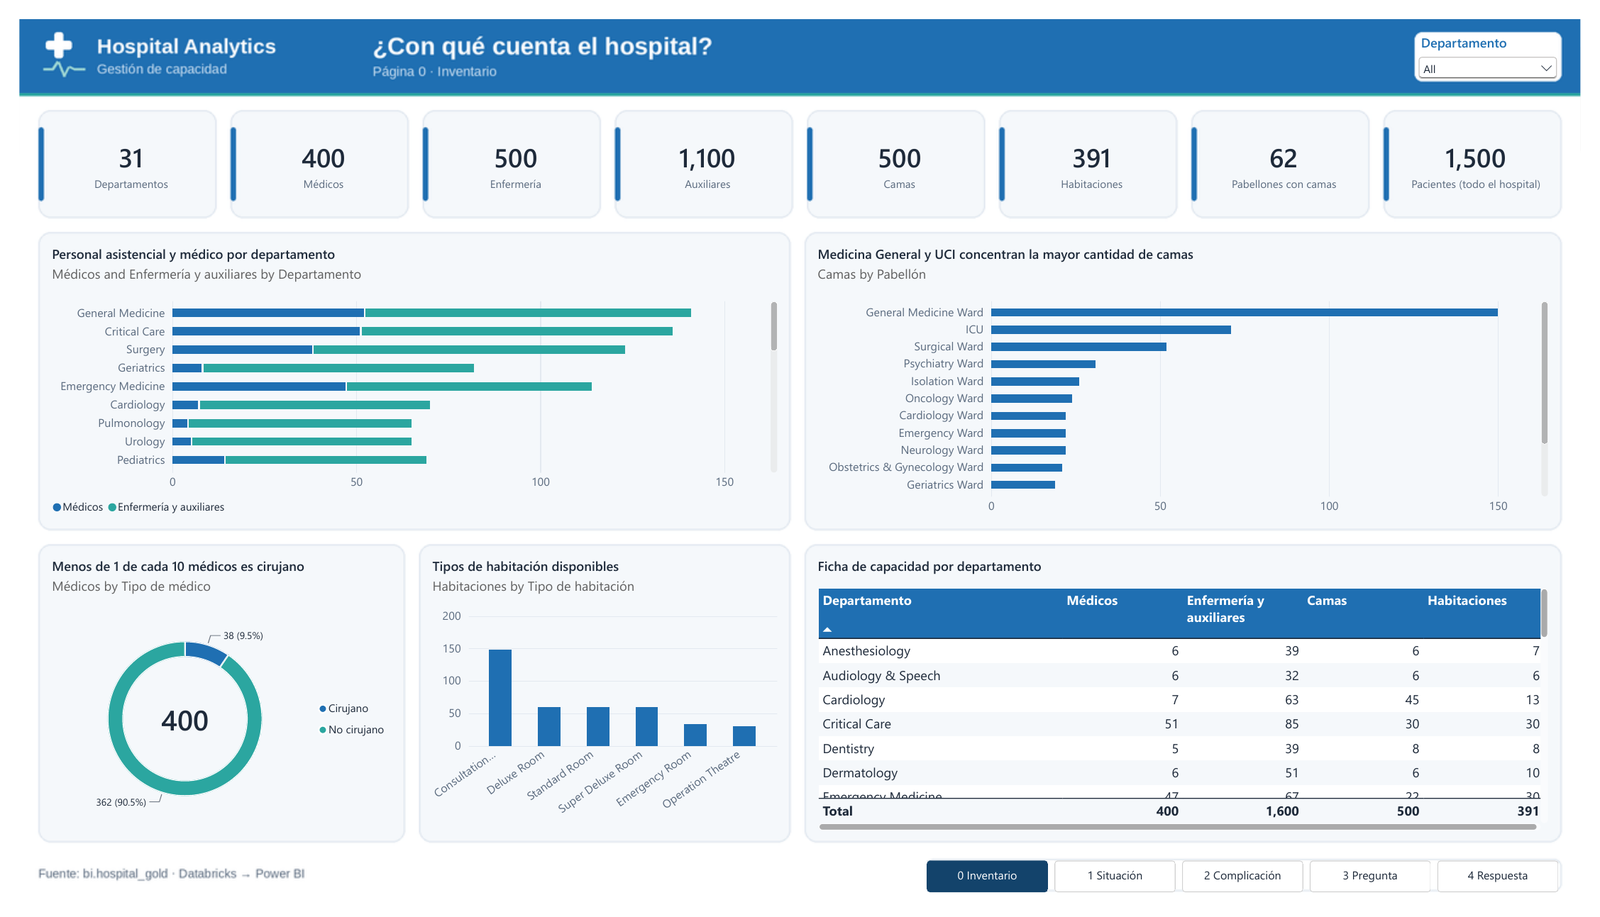

The page's visual inventory and layout, read from the dashboard file:
{"tool":"powerbi","page":{"name":"0 Inventario","canvas":[1920,1080],"ordinal":0},"visuals":[{"type":"card","fields":{"Values":["_Medidas.Departamentos Seleccionados"]},"box":[39,120,197.2,120],"z":1000},{"type":"card","fields":{"Values":["_Medidas.Médicos por Depto"]},"box":[275.2,120,197.2,120],"z":2000},{"type":"card","fields":{"Values":["_Medidas.Enfermería por Depto"]},"box":[511.5,120,197.2,120],"z":3000},{"type":"card","fields":{"Values":["_Medidas.Auxiliares por Depto"]},"box":[747.8,120,197.2,120],"z":4000},{"type":"card","fields":{"Values":["_Medidas.Camas por Depto"]},"box":[984,120,197.2,120],"z":5000},{"type":"card","fields":{"Values":["_Medidas.Habitaciones por Depto"]},"box":[1220.2,120,197.2,120],"z":6000},{"type":"card","fields":{"Values":["_Medidas.Pabellones por Depto"]},"box":[1456.5,120,197.2,120],"z":7000},{"type":"card","fields":{"Values":["_Medidas.Total Pacientes"]},"box":[1692.8,120,197.2,120],"z":8000},{"type":"barChart","title":"Personal asistencial y médico por departamento","fields":{"Category":["dim_departments.department_name"],"Y":["_Medidas.Médicos por Depto","_Medidas.Personal por Depto"]},"box":[24,264,924,366],"z":9000},{"type":"clusteredBarChart","title":"Medicina General y UCI concentran la mayor cantidad de camas","fields":{"Category":["dim_beds.ward_name"],"Y":["_Medidas.Camas por Depto"]},"box":[966,264,930,366],"z":10000},{"type":"donutChart","title":"Menos de 1 de cada 10 médicos es cirujano","fields":{"Category":["dim_doctors.Tipo de médico"],"Y":["_Medidas.Médicos por Depto"]},"box":[24,648,450,366],"z":11000},{"type":"clusteredColumnChart","title":"Tipos de habitación disponibles","fields":{"Category":["dim_rooms.room_type"],"Y":["_Medidas.Habitaciones por Depto"]},"box":[492,648,456,366],"z":12000},{"type":"tableEx","title":"Ficha de capacidad por departamento","fields":{"Values":["dim_departments.department_name","_Medidas.Médicos por Depto","_Medidas.Personal por Depto","_Medidas.Camas por Depto","_Medidas.Habitaciones por Depto"]},"box":[966,648,930,366],"z":13000},{"type":"slicer","fields":{"Values":["dim_departments.department_name"]},"box":[1716,18,180,60],"z":20000},{"type":"pageNavigator","box":[1116,1035,780,39],"z":21000}]}

Visuals, with their boxes in screenshot pixels (x1, y1, x2, y2), scaled from the page's 1920x1080 canvas onto the 1600x917 screenshot:
card - _Medidas.Departamentos Seleccionados: [32,102,197,204]
card - _Medidas.Médicos por Depto: [229,102,394,204]
card - _Medidas.Enfermería por Depto: [426,102,591,204]
card - _Medidas.Auxiliares por Depto: [623,102,788,204]
card - _Medidas.Camas por Depto: [820,102,984,204]
card - _Medidas.Habitaciones por Depto: [1017,102,1181,204]
card - _Medidas.Pabellones por Depto: [1214,102,1378,204]
card - _Medidas.Total Pacientes: [1411,102,1575,204]
"Personal asistencial y médico por departamento" barChart: [20,224,790,535]
"Medicina General y UCI concentran la mayor cantidad de camas" clusteredBarChart: [805,224,1580,535]
"Menos de 1 de cada 10 médicos es cirujano" donutChart: [20,550,395,861]
"Tipos de habitación disponibles" clusteredColumnChart: [410,550,790,861]
"Ficha de capacidad por departamento" tableEx: [805,550,1580,861]
slicer - dim_departments.department_name: [1430,15,1580,66]
pageNavigator: [930,879,1580,912]
